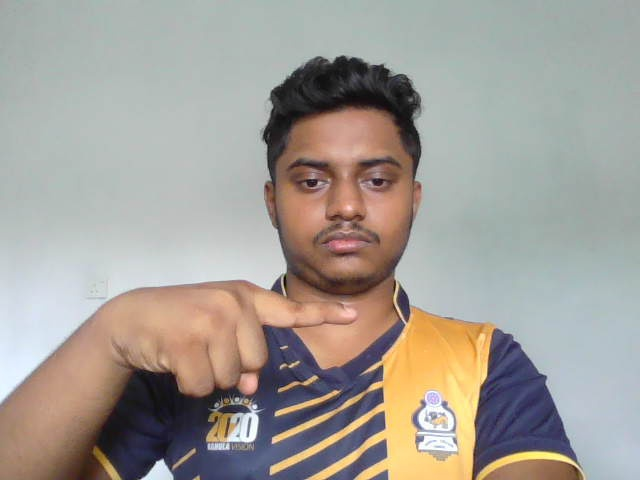Going To: (101, 276, 362, 396)
